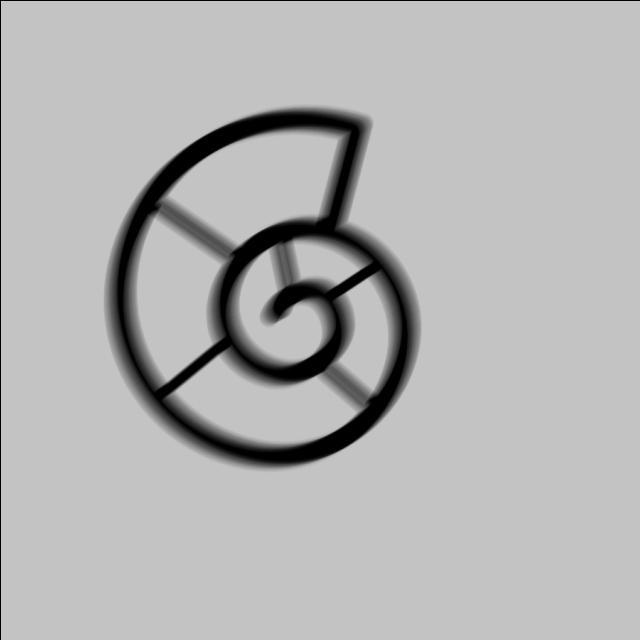fossil: (99, 102, 429, 476)
